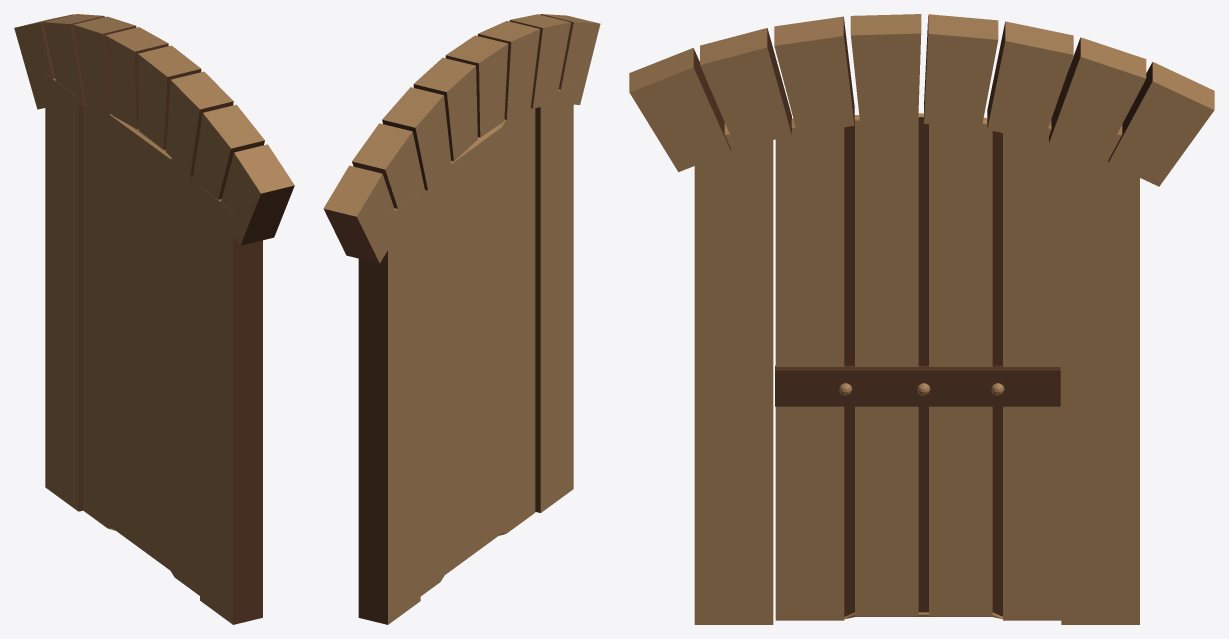
File: door.fbx
3 renders of one model, left to right at view 1: azimuth 30°, elevation 25°; view 2: azimuth 150°, elevation 25°; view 3: azimuth 270°, elevation 25°, orthographic. The views are drawn at different scales.
Visible parts, largest first — view 1: Door; view 2: Door; view 3: Door.
Boxes of the visible parts, left/top/right/bottom form: Door: left=14, top=14, right=294, bottom=624; Door: left=323, top=14, right=600, bottom=624; Door: left=629, top=14, right=1214, bottom=624.
Bounding box in the file's own units: 4.21 × 59.24 × 52.89.
